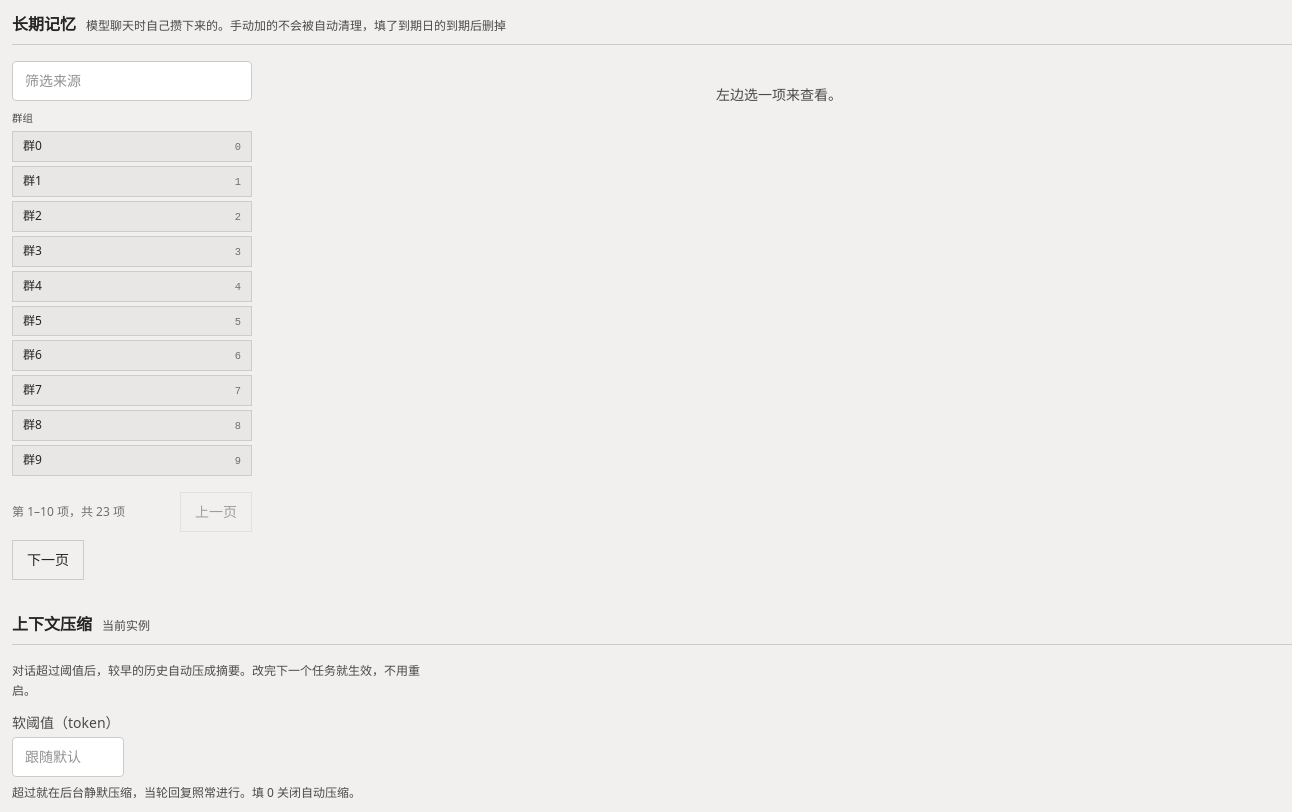
Test: 来源列表 › 下一页换的是同一栏的内容，不是整页跳走
This screenshot has width=1292, height=812.
Expected: the text "群0" is shown, [23,137,42,154]
Click the button "下一页" at (48, 560), box [12,540,84,580]
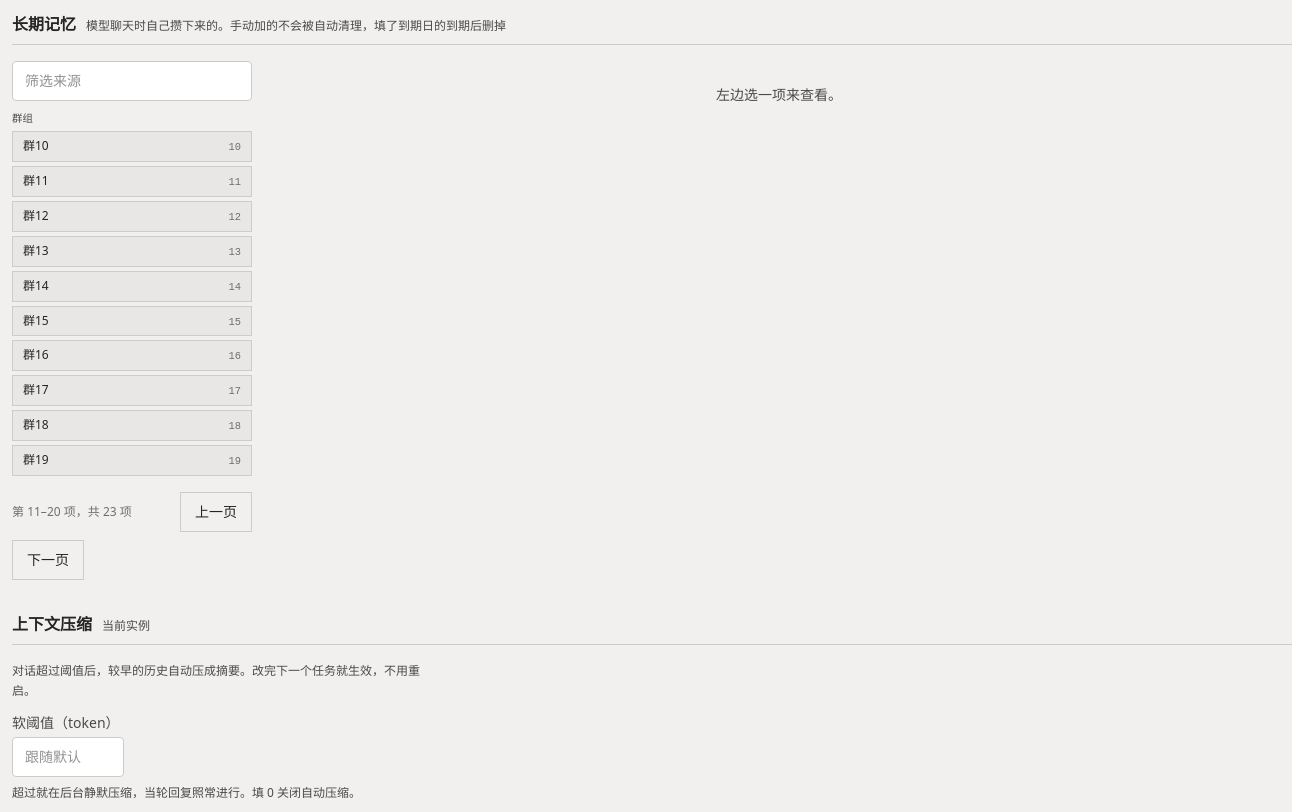
Expected: the text "群10" is shown, [23,137,49,154]
Expected: the button "群0" is gone
